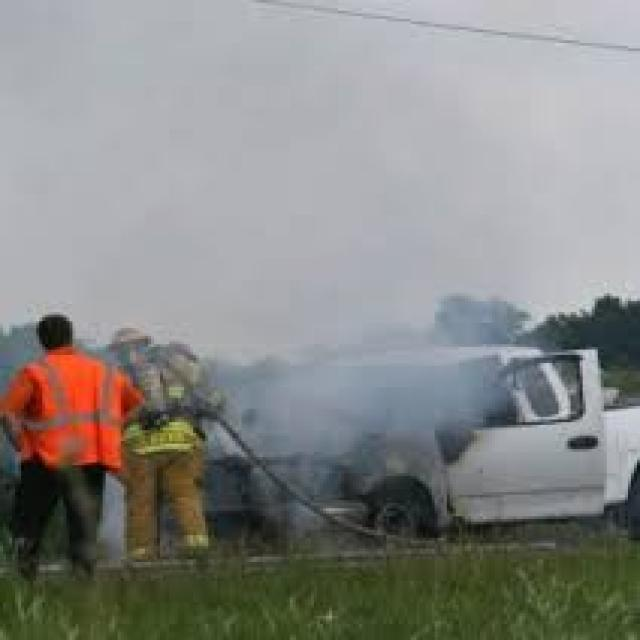Smoke: (42, 77, 558, 503)
